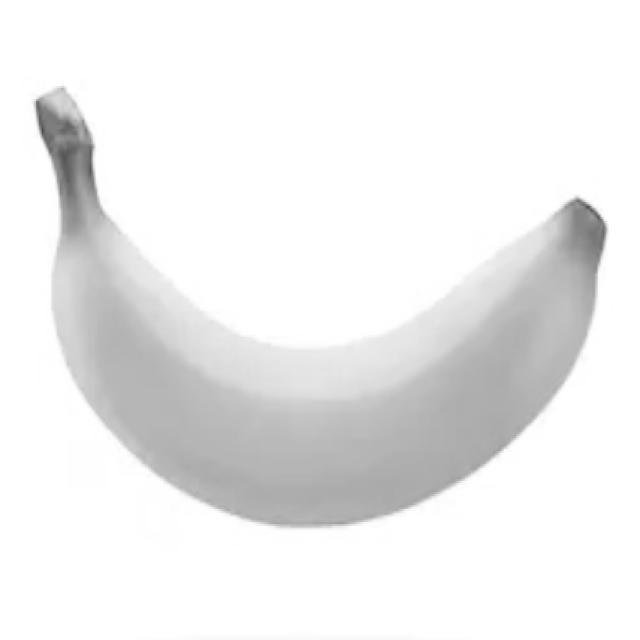Ripe: (14, 66, 616, 530)
